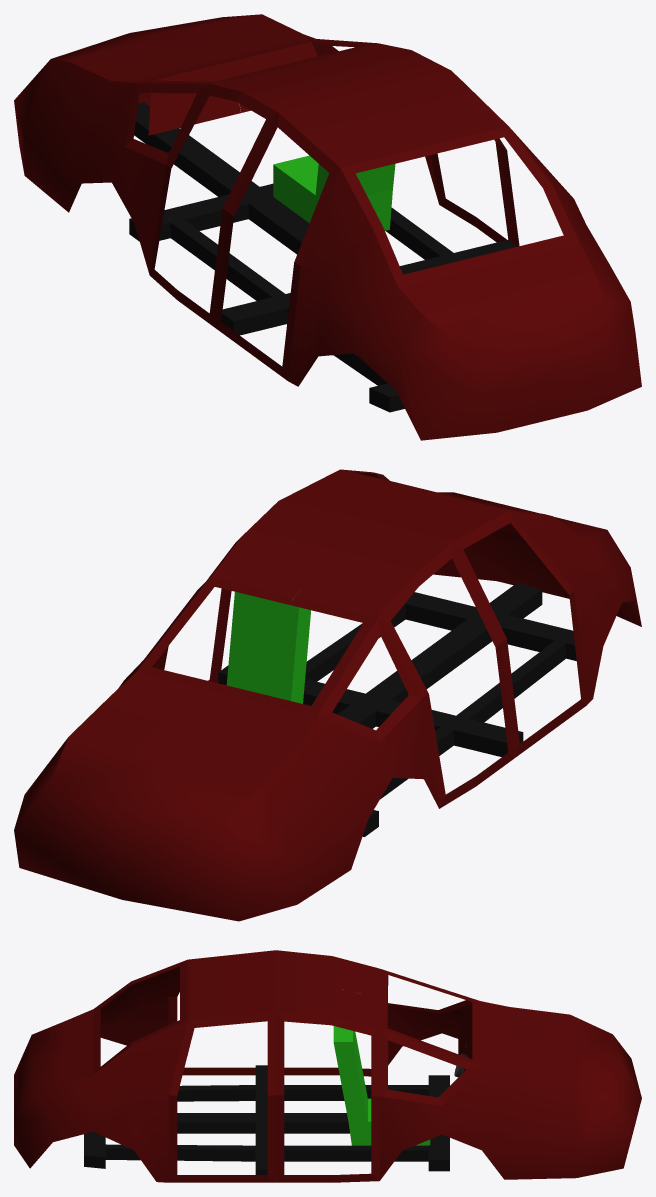
The model's file is Car Without Bonnett Fix.fbx.
3 renders of one model, top to bottom at view 1: azimuth 30°, elevation 25°; view 2: azimuth 150°, elevation 25°; view 3: azimuth 270°, elevation 25°, orthographic. The views are drawn at different scales.
Visible parts, largest first — view 1: Body; view 2: Body; view 3: Body.
Boxes of the visible parts, bbox=[...] form: Body: bbox=[14, 14, 641, 440]; Body: bbox=[14, 469, 641, 921]; Body: bbox=[14, 950, 641, 1182].
Bounding box in the file's own units: 1486 × 952 × 3667.
